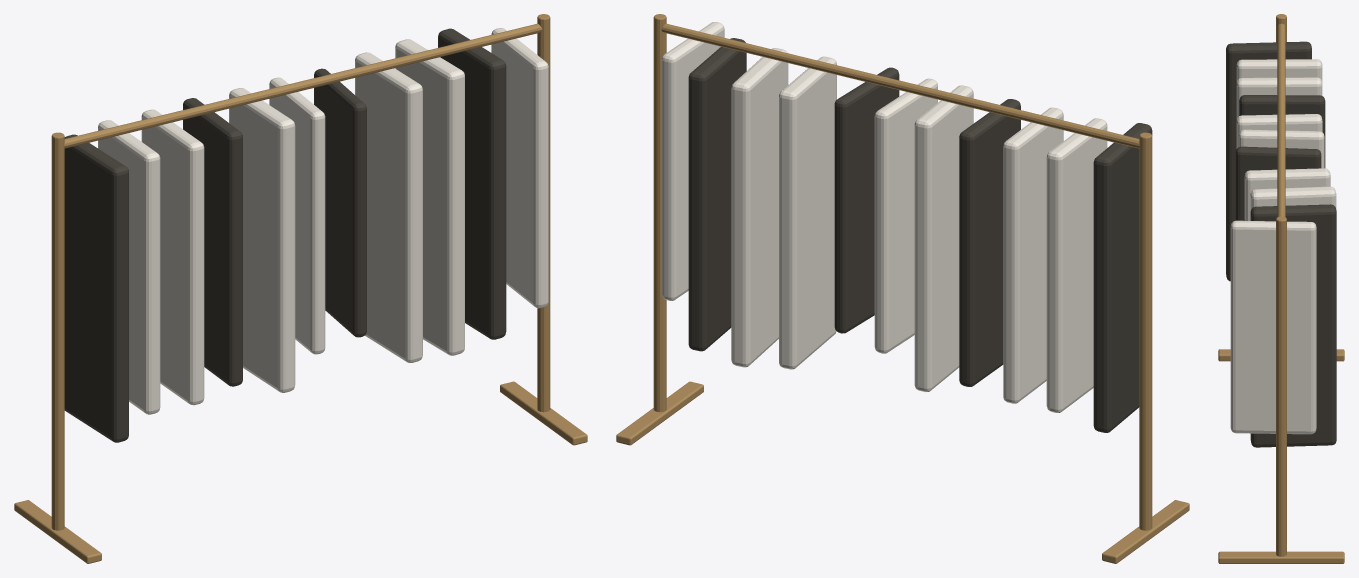
File: retail-rack.glb
3 renders of one model, left to right at view 1: azimuth 30°, elevation 25°; view 2: azimuth 150°, elevation 25°; view 3: azimuth 270°, elevation 25°, orthographic. The views are drawn at different scales.
Visible parts, largest first — view 1: rack_gmt_0, rack_gmt_7, rack_gmt_4, rack_gmt_8, rack_gmt_2, rack_gmt_9, rack_gmt_10, rack_gmt_3, rack_gmt_6, rack_gmt_1, rack_gmt_5, rack_post_-1 (+4 smaller); view 2: rack_gmt_7, rack_gmt_8, rack_gmt_0, rack_gmt_4, rack_gmt_1, rack_gmt_9, rack_gmt_2, rack_gmt_3, rack_gmt_5, rack_gmt_6, rack_gmt_10, rack_post_-1 (+4 smaller); view 3: rack_gmt_10, rack_gmt_9, rack_post_1, rack_gmt_0, rack_gmt_6, rack_gmt_7, rack_rail, rack_gmt_3, rack_foot_1, rack_gmt_2, rack_gmt_1, rack_gmt_5 (+4 smaller).
Part boxes in pixels (x1=…): rack_gmt_0: x1=64, y1=134, x2=128, y2=442; rack_gmt_7: x1=355, y1=52, x2=422, y2=362; rack_gmt_4: x1=229, y1=88, x2=295, y2=392; rack_gmt_8: x1=395, y1=39, x2=464, y2=355; rack_gmt_2: x1=141, y1=109, x2=204, y2=405; rack_gmt_9: x1=438, y1=28, x2=506, y2=339; rack_gmt_10: x1=491, y1=28, x2=548, y2=308; rack_gmt_3: x1=183, y1=98, x2=242, y2=386; rack_gmt_6: x1=314, y1=68, x2=366, y2=337; rack_gmt_1: x1=98, y1=120, x2=160, y2=414; rack_gmt_5: x1=269, y1=77, x2=325, y2=354; rack_post_-1: x1=51, y1=132, x2=64, y2=530; rack_gmt_7: x1=779, y1=56, x2=836, y2=369; rack_gmt_8: x1=731, y1=48, x2=788, y2=367; rack_gmt_0: x1=1093, y1=123, x2=1152, y2=432; rack_gmt_4: x1=914, y1=85, x2=973, y2=391; rack_gmt_1: x1=1046, y1=118, x2=1107, y2=412; rack_gmt_9: x1=688, y1=38, x2=746, y2=351; rack_gmt_2: x1=1003, y1=107, x2=1063, y2=403; rack_gmt_3: x1=959, y1=99, x2=1020, y2=386; rack_gmt_5: x1=874, y1=78, x2=937, y2=353; rack_gmt_6: x1=834, y1=67, x2=899, y2=333; rack_gmt_10: x1=661, y1=22, x2=724, y2=300; rack_post_-1: x1=1139, y1=132, x2=1152, y2=530; rack_gmt_10: x1=1230, y1=220, x2=1316, y2=434; rack_gmt_9: x1=1250, y1=204, x2=1336, y2=447; rack_post_1: x1=1276, y1=216, x2=1286, y2=556; rack_gmt_0: x1=1226, y1=41, x2=1311, y2=281; rack_gmt_6: x1=1235, y1=146, x2=1321, y2=220; rack_gmt_7: x1=1244, y1=168, x2=1330, y2=220; rack_rail: x1=1277, y1=23, x2=1285, y2=217; rack_gmt_3: x1=1239, y1=95, x2=1325, y2=167; rack_foot_1: x1=1218, y1=551, x2=1344, y2=563; rack_gmt_2: x1=1236, y1=77, x2=1322, y2=119; rack_gmt_1: x1=1236, y1=59, x2=1322, y2=81; rack_gmt_5: x1=1238, y1=129, x2=1324, y2=168.
Bounding box in the file's own units: 1.96 × 1.5 × 0.5.
